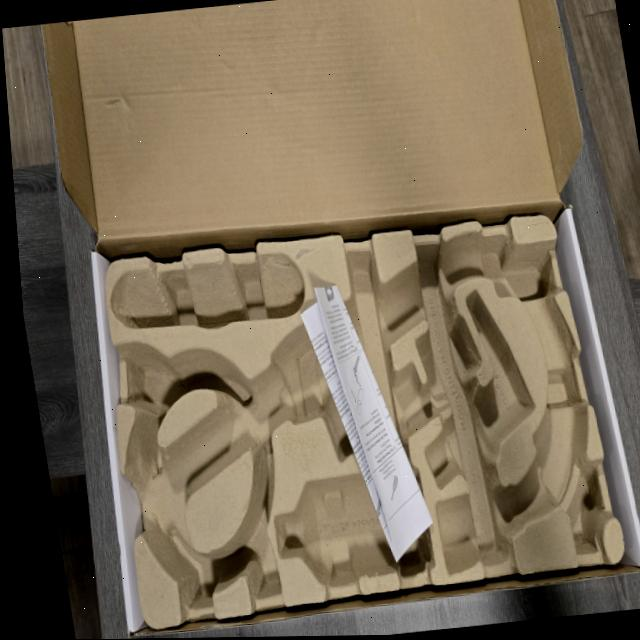1m: (120, 230, 587, 573)
2m: (425, 291, 535, 489)
3m: (275, 469, 434, 588)
4m: (110, 252, 303, 330)
5m: (126, 343, 174, 412)
6m: (163, 523, 212, 620)
7m: (237, 480, 281, 606)
8: (299, 282, 433, 564)
